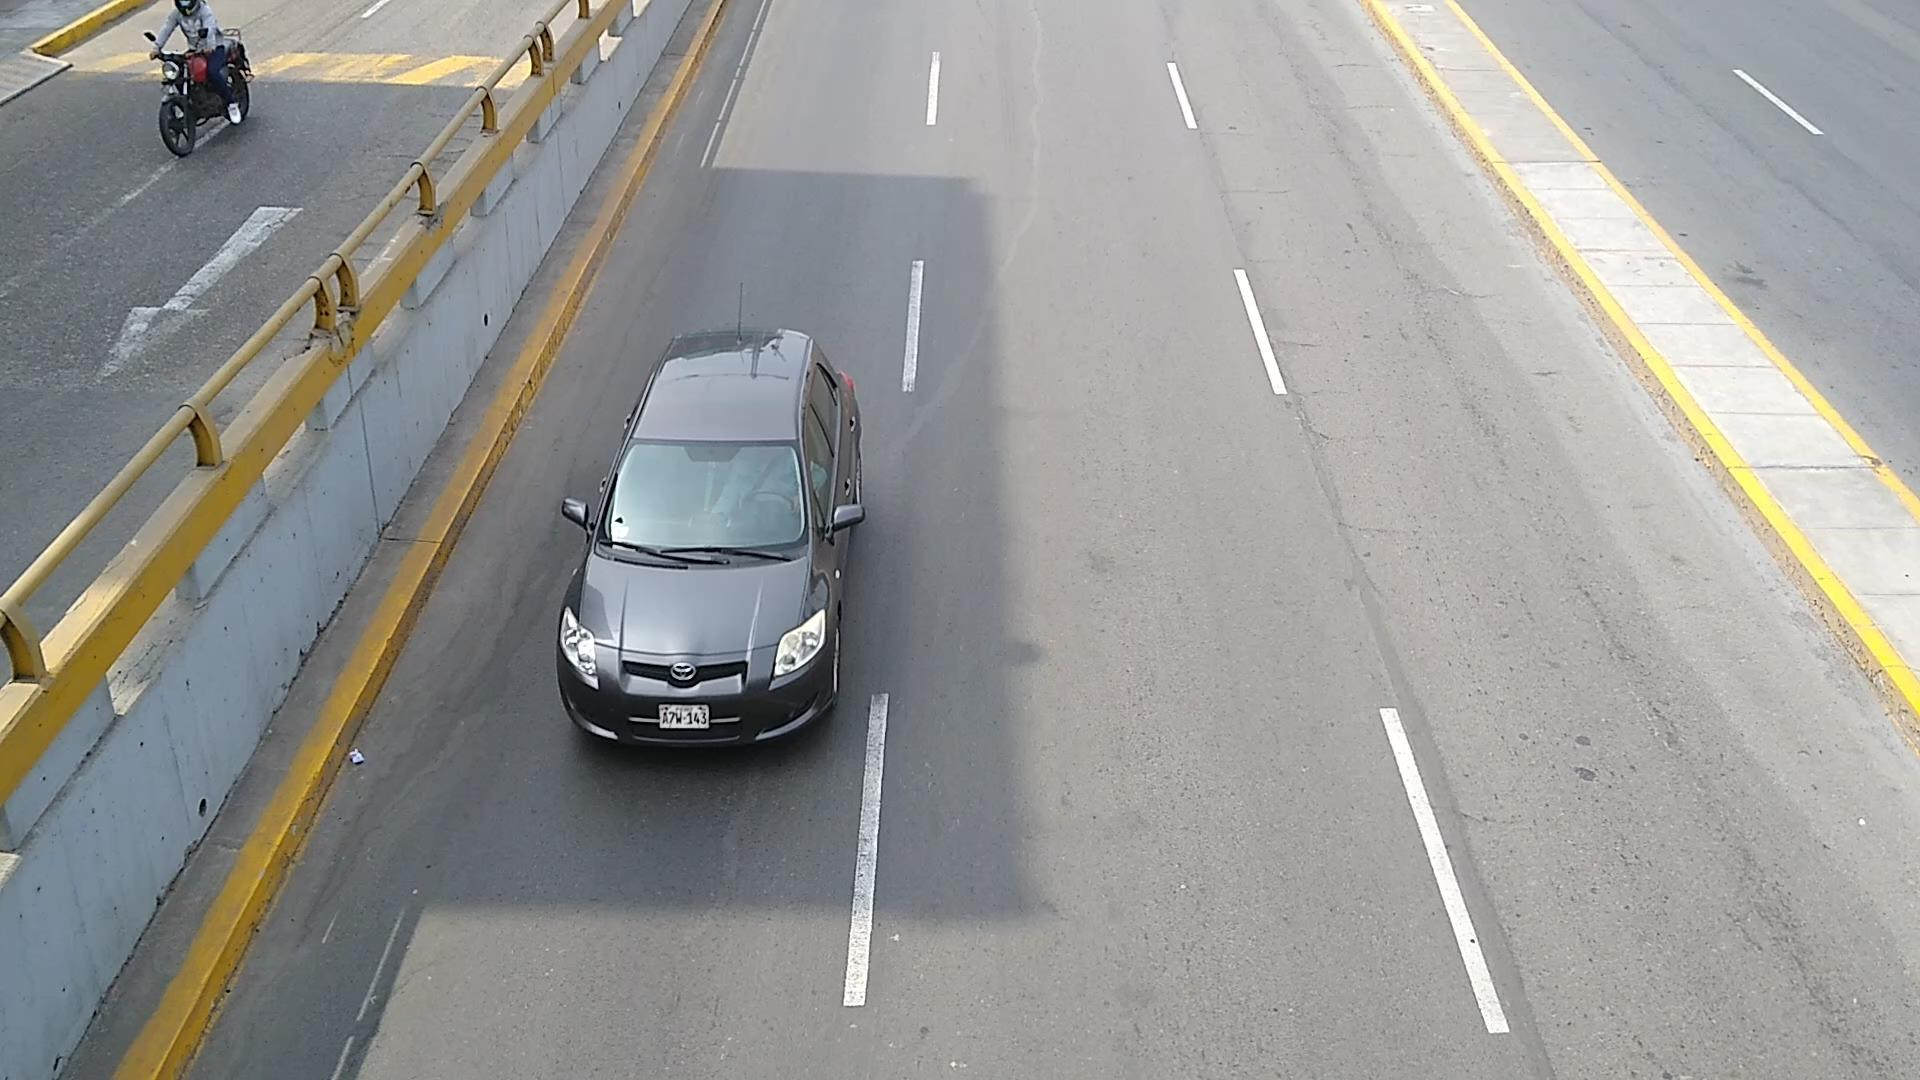car: (360, 0, 390, 17)
